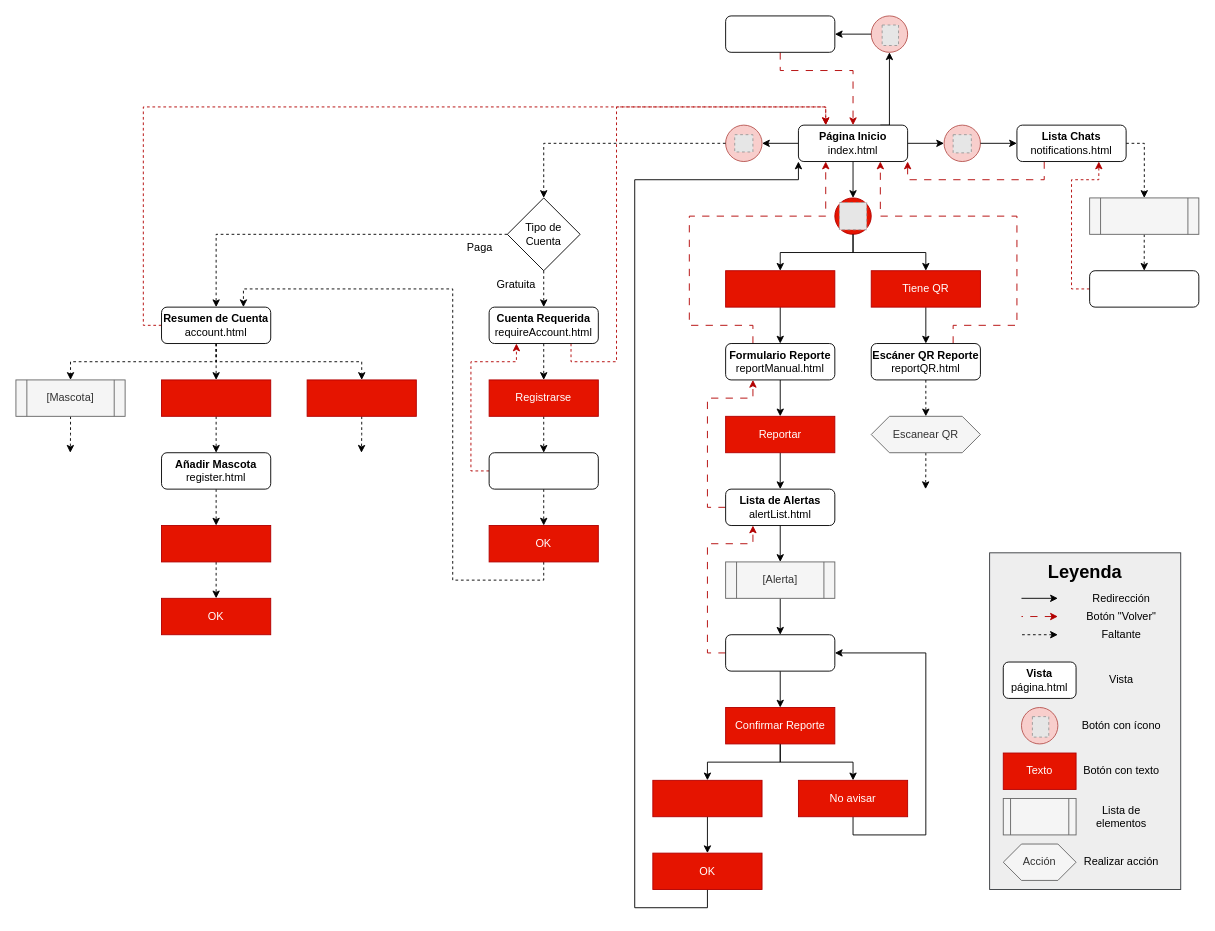
The diagram is 1215 pixels wide and 931 high, and some of its shapes have lost their labels. Grey dashed boxes stand in for pictures. The shapes that lost their labels are listed below. From the top down, each one's box as (x1, y1, x2, y2) in pixels, then its label:
(725, 15, 835, 52): Lista Notificaciones notifications.html
(1089, 197, 1199, 234): [Conversación]
(725, 270, 835, 307): No tiene QR
(1089, 270, 1199, 307): Conversación chat.html
(161, 379, 271, 416): Añadir Mascota
(306, 379, 416, 416): Detalles Cuenta
(488, 452, 598, 489): Registrar Cuenta registerAccount.html
(161, 525, 271, 562): Registrar
(725, 634, 835, 671): Detalle de Alerta alertDetail.html
(652, 779, 762, 817): Sí, avisar al dueño
(1002, 798, 1076, 835): [Elemento]
